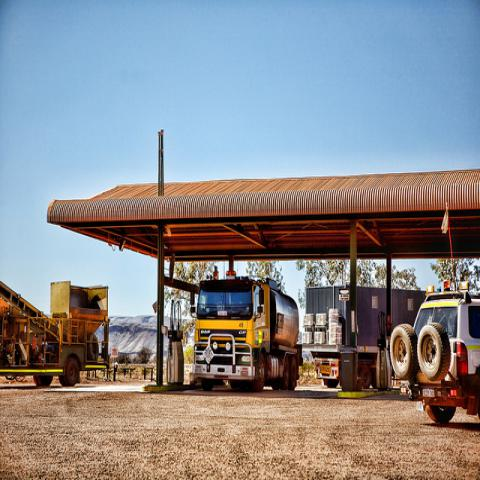car: (388, 279, 480, 427)
truck: (301, 286, 426, 390), (194, 275, 304, 390), (392, 290, 480, 425)
